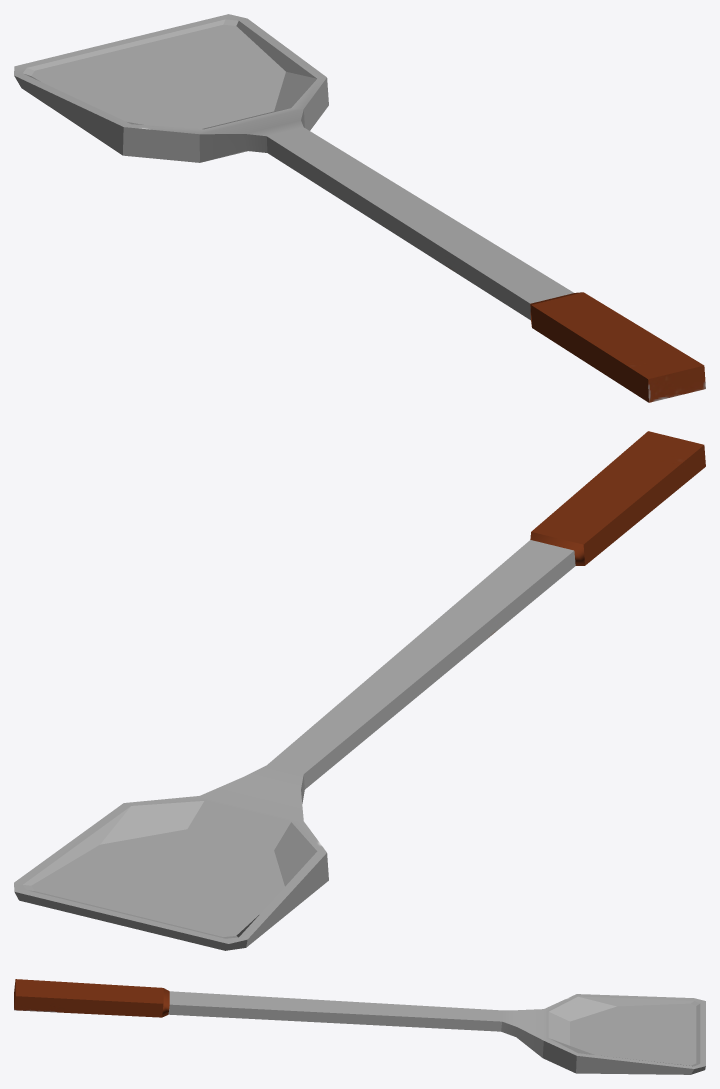
The model's file is shovel.fbx.
3 views of the same model, one above another, from view 1: azimuth 30°, elevation 25°; view 2: azimuth 150°, elevation 25°; view 3: azimuth 270°, elevation 25° (orthographic). The views are drawn at different scales.
Parts seen in each view (by area): view 1: shovel; view 2: shovel; view 3: shovel.
Boxes of the visible parts, box(x1,y1,x2,y2) form: shovel: box(14, 14, 705, 402); shovel: box(14, 431, 705, 950); shovel: box(14, 979, 705, 1074).
Bounding box in the file's own units: 1.05 × 0.376 × 4.32.
